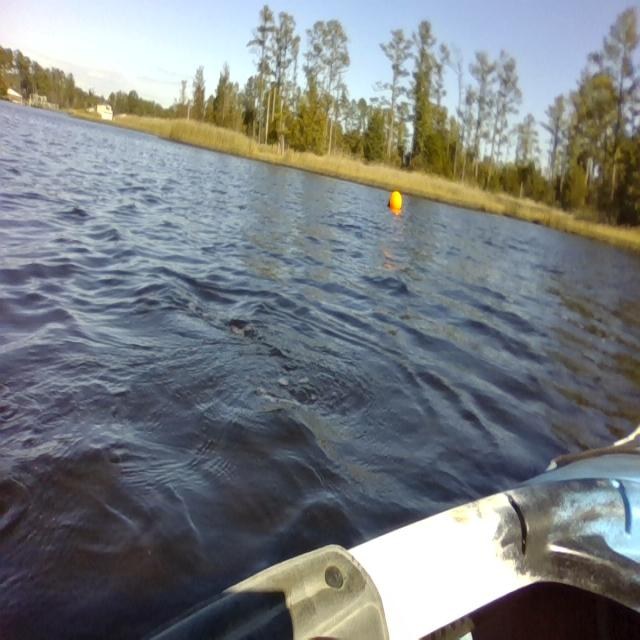Buoy: (386, 186, 406, 219)
